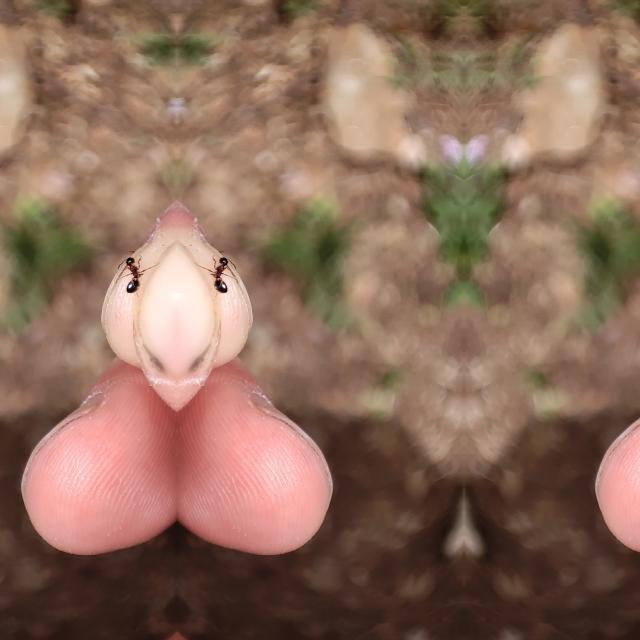Dolichoderus: (208, 245, 232, 305), (120, 245, 144, 305)
